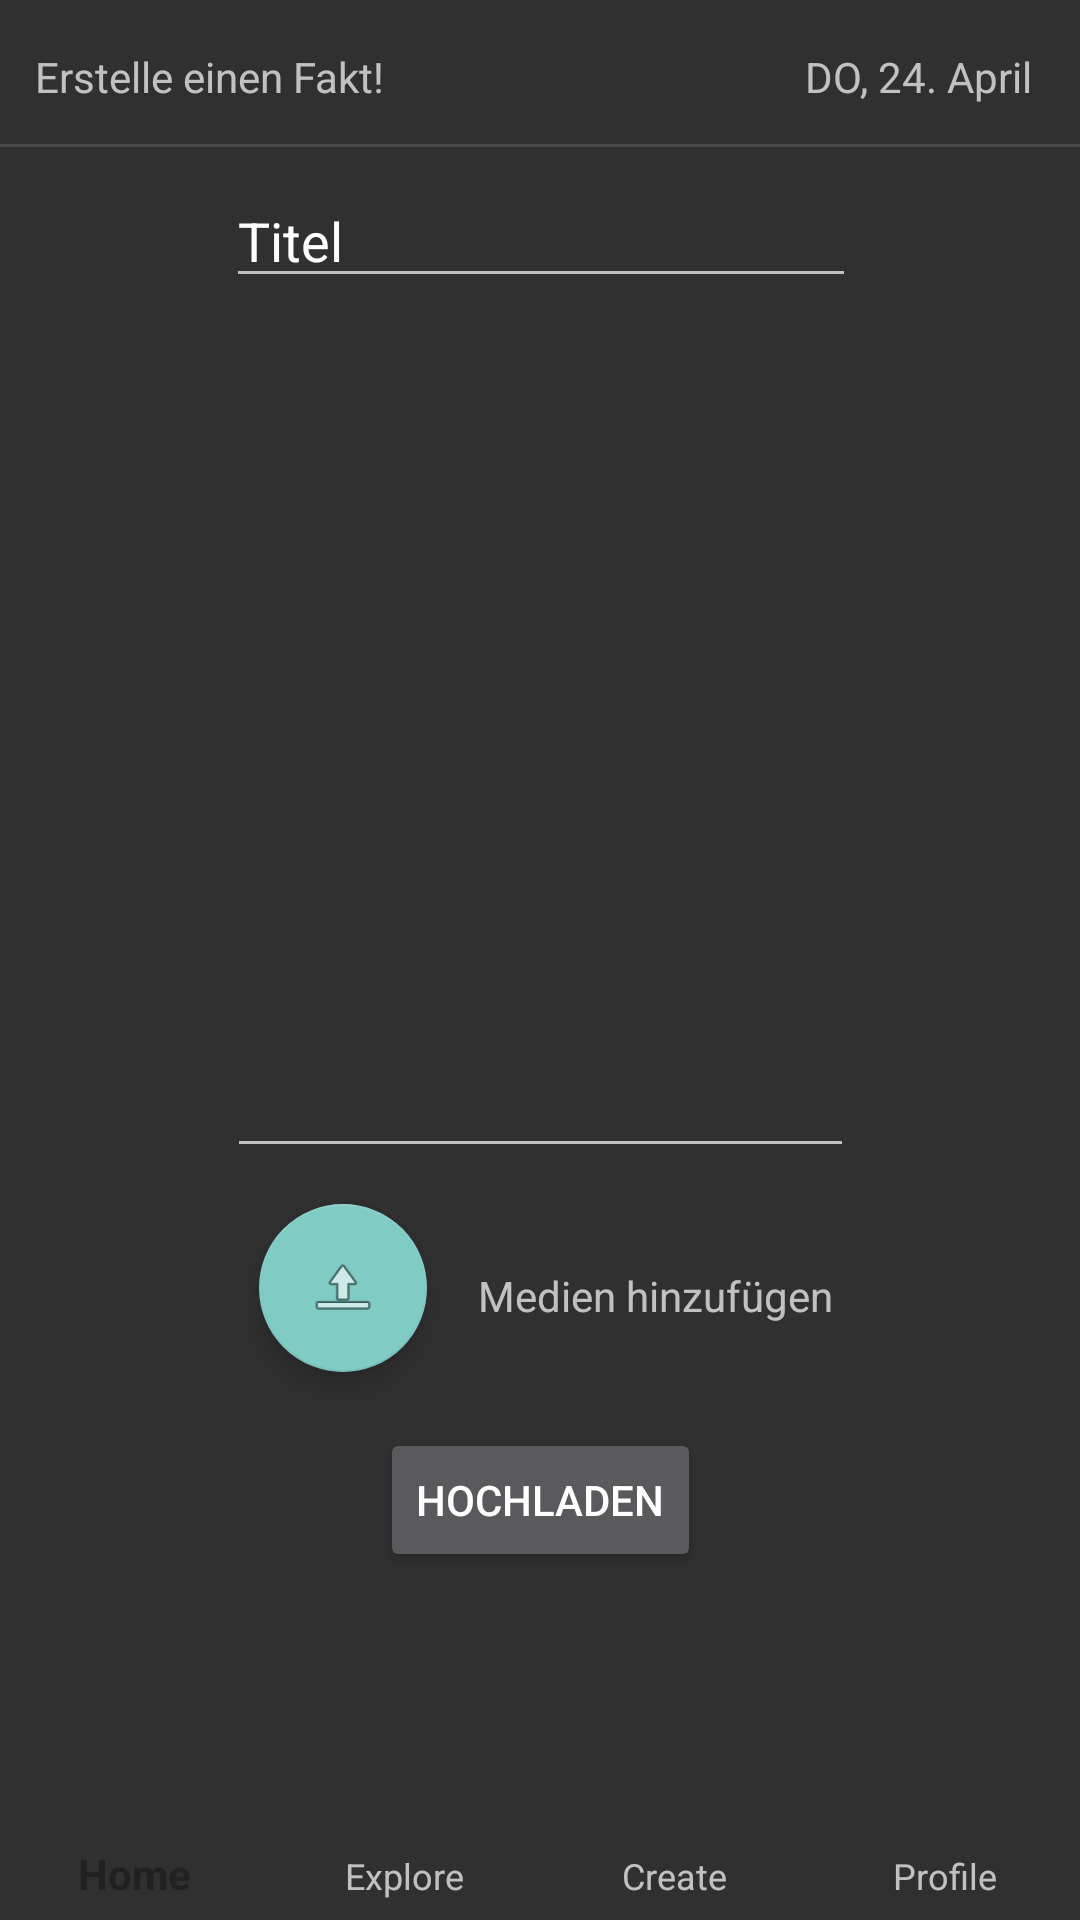

Icon click points for this 1080px×1920px phone screenshot, format (x=x, y=y):
upload: (x=343, y=1288)
